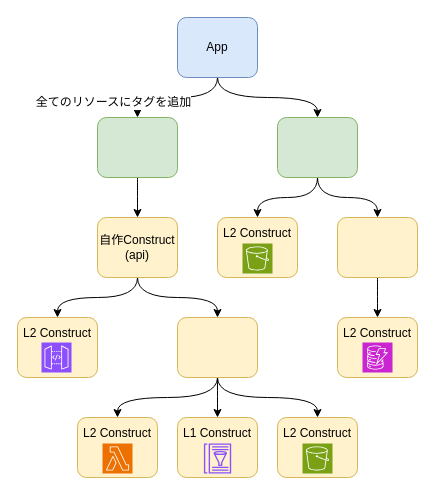
Image size: 435x495. Some labels were removed from this diagram. Each missing label, with the centre of its shape:
"Stack A" belongs at (137,147).
"Stack B" belongs at (317,147).
"自作 Construct (Lambda)" belongs at (217,347).
"自作Construct (datastore)" belongs at (377,247).
